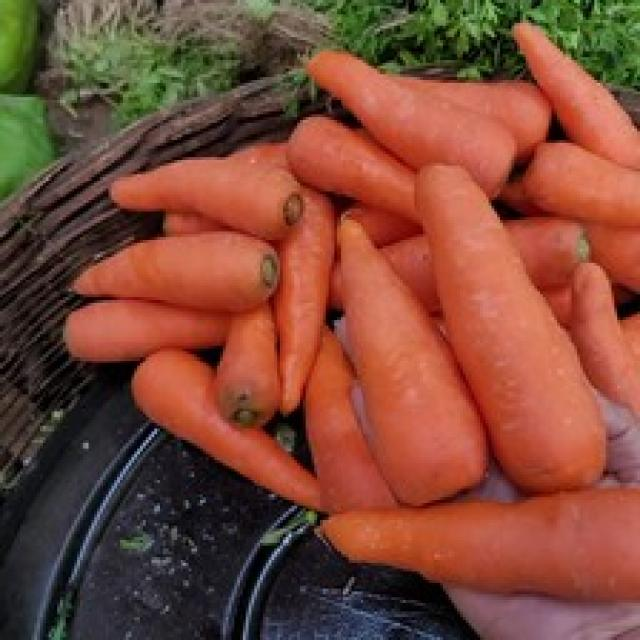Fresh_Carrot: (397, 157, 590, 465), (310, 204, 478, 512), (295, 467, 640, 599), (301, 49, 548, 202), (57, 239, 299, 314), (111, 154, 302, 239)
